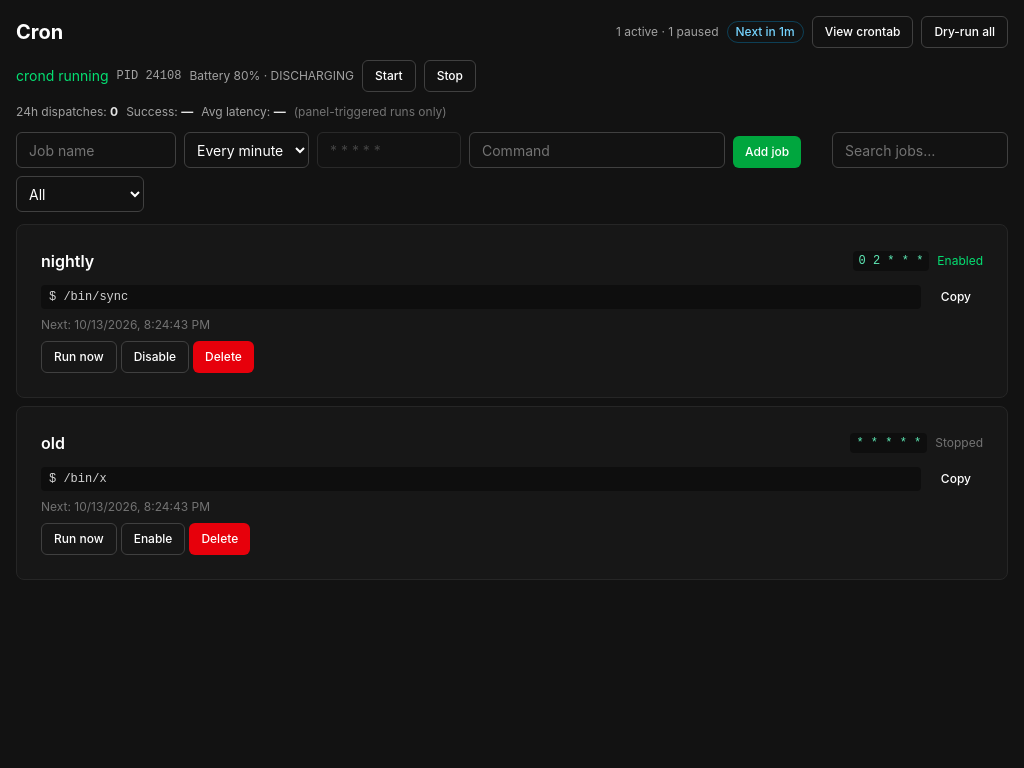
web cron page › searches, filters and previews the crontab
Check: the text "Next in 1m" is shown, box [726,21,804,43]
Check: the text "PID 24108" is shown, box [117,68,181,84]
Type "zzz" into the field labelled "Search jobs". click: {"x": 920, "y": 150}
box: [832,132,1008,168]
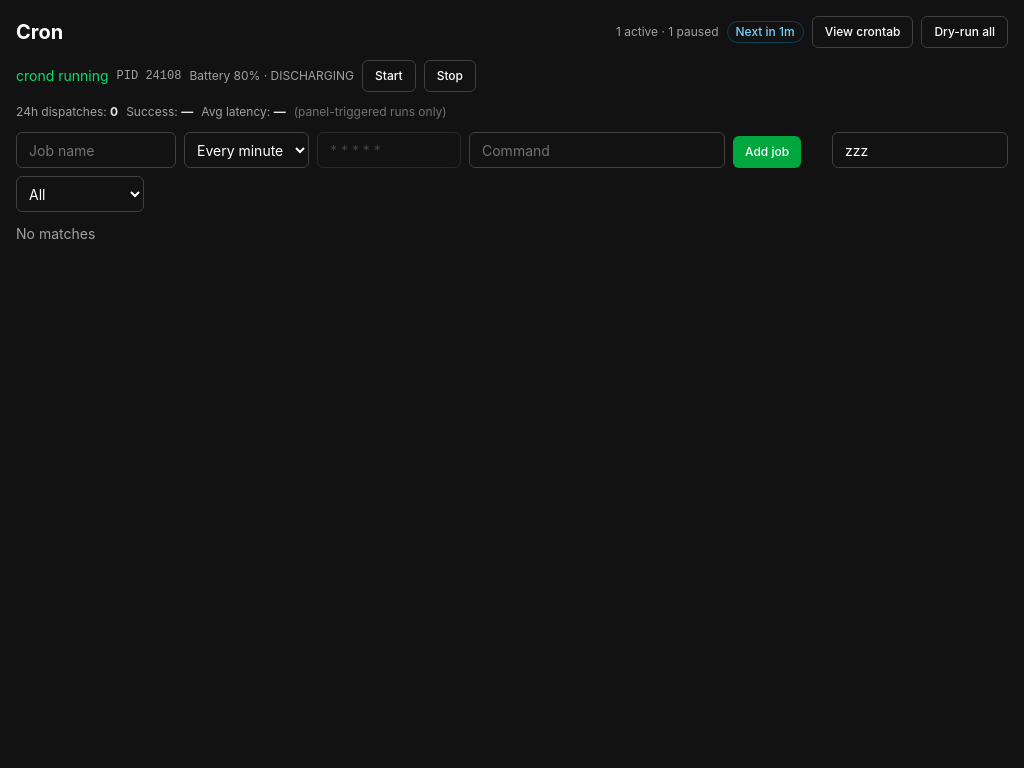
Check: the text "No matches" is shown, box [16,225,95,242]
Clear the field named "Search jobs". click: {"x": 920, "y": 150}
box: [832,132,1008,168]
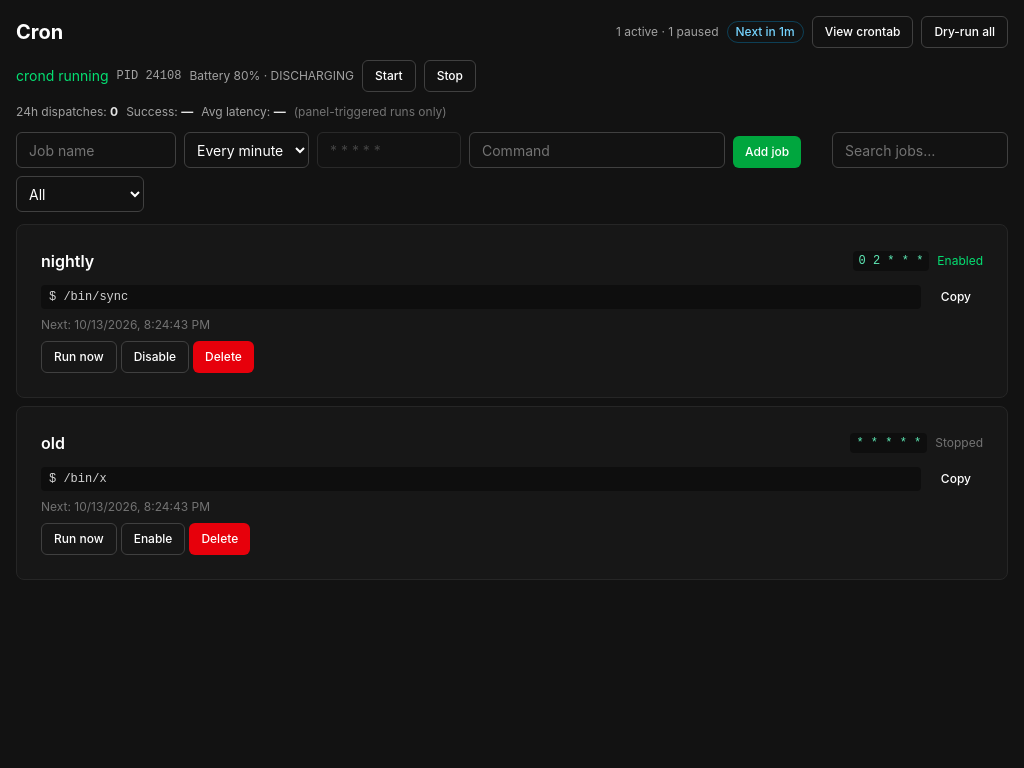
Click the button "View crontab". click: {"x": 863, "y": 32}
box: [812,16,913,48]
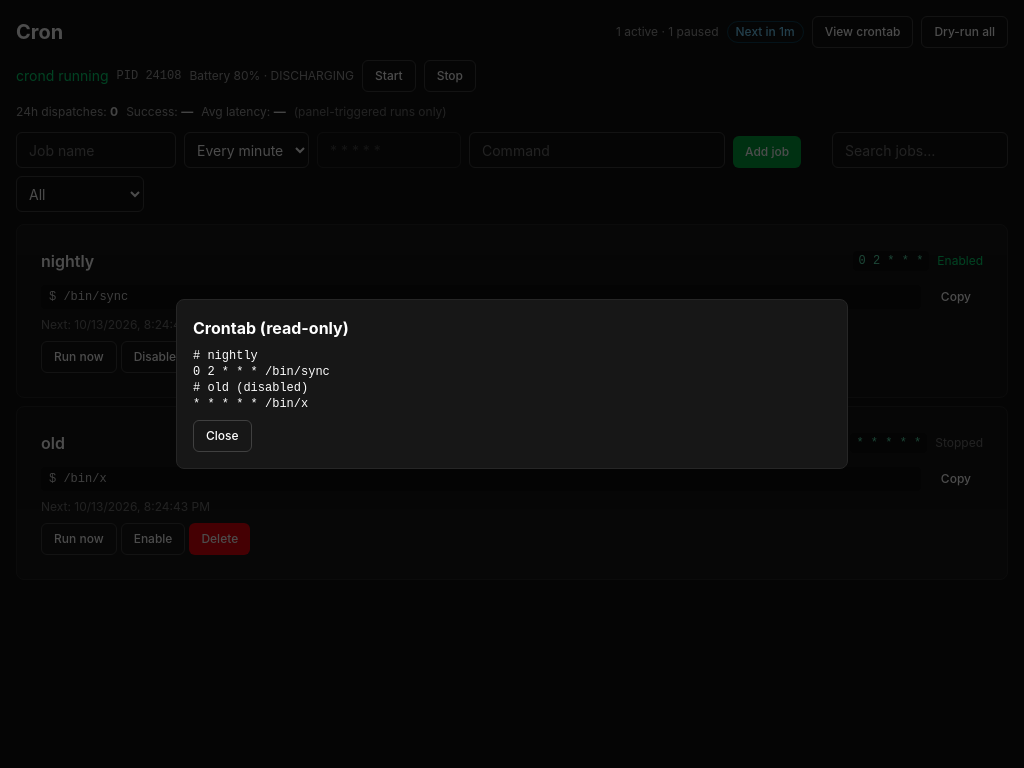
Check: the heading "Crontab (read-only)" is shown, box [193,318,349,338]
Check: the text "0 2 * * * /bin/sync" is shown, box [193,349,330,411]
Click the button "Close". click: {"x": 222, "y": 436}
box: [193,420,252,452]
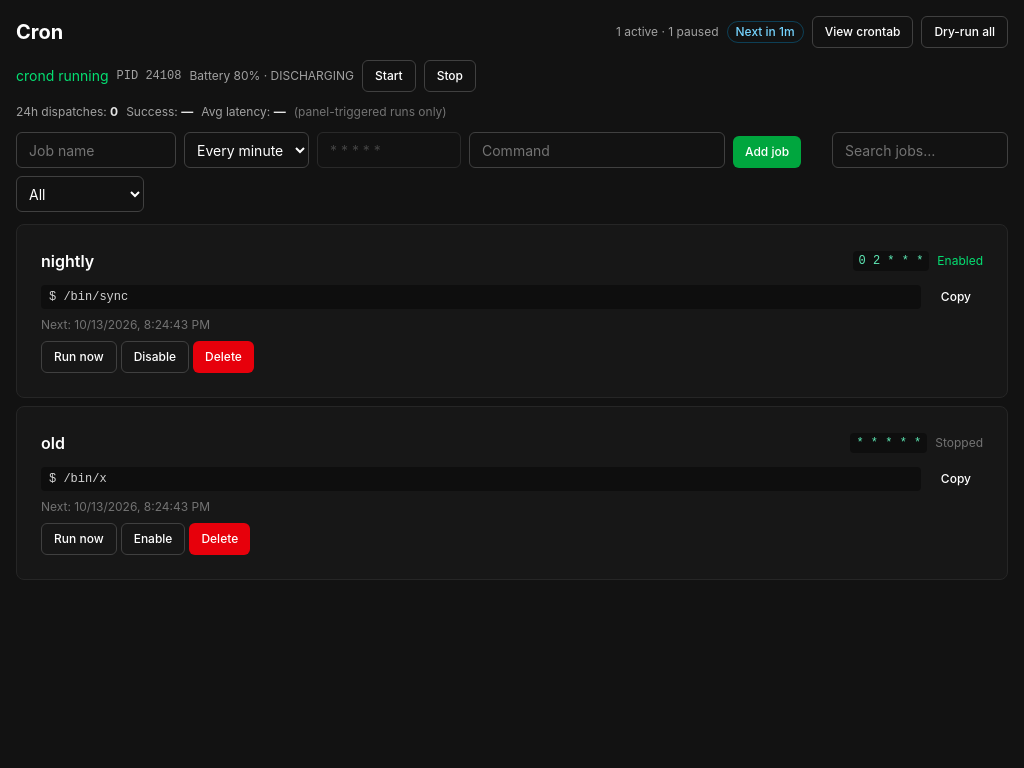
Check: the heading "Crontab (read-only)" is gone
